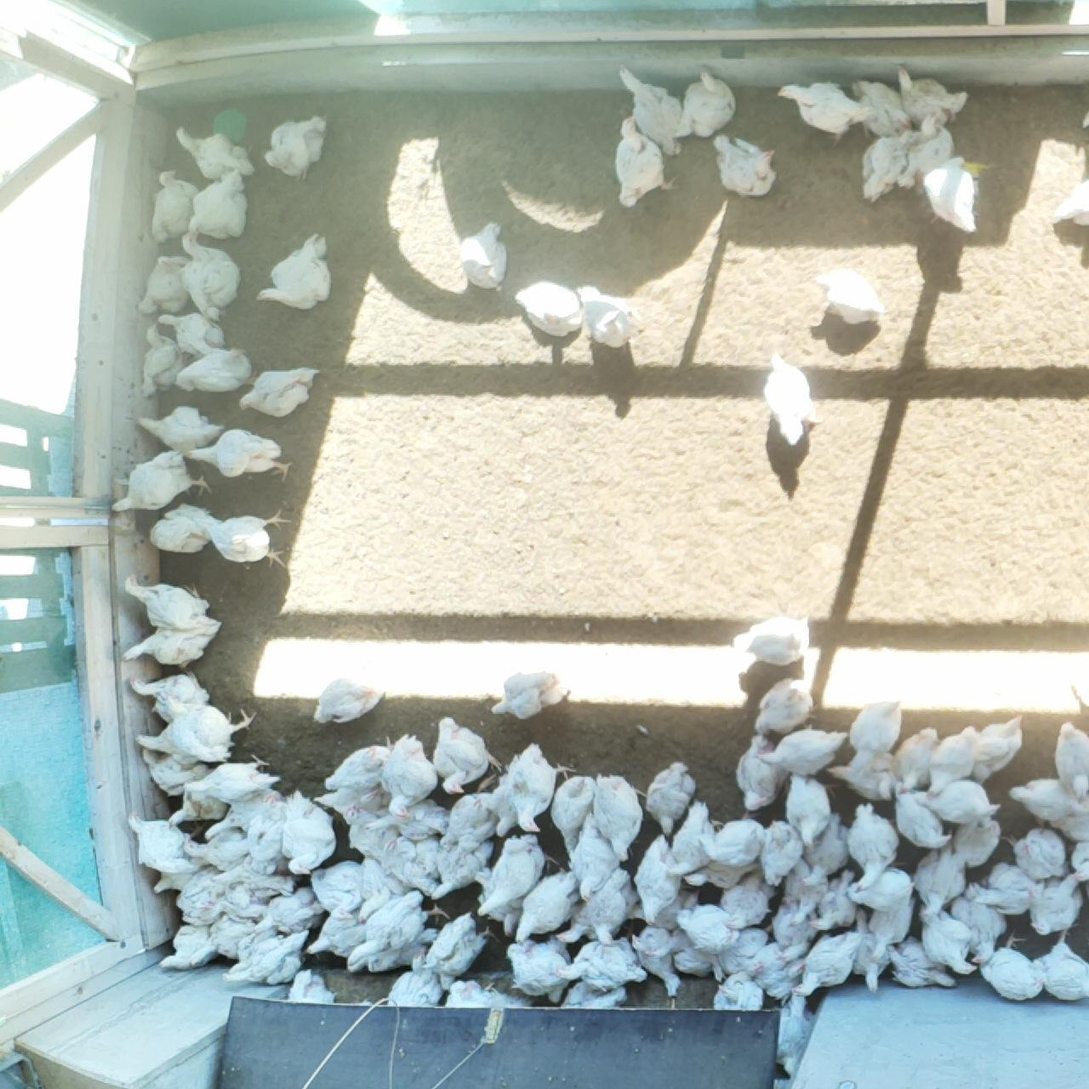chicken: (342, 889, 450, 971), (135, 705, 260, 761), (618, 60, 688, 156), (112, 444, 208, 514), (503, 741, 575, 834), (255, 232, 332, 315), (184, 423, 292, 482), (778, 77, 879, 140), (611, 116, 676, 211), (443, 975, 534, 1042), (177, 227, 244, 316), (428, 715, 500, 797), (479, 835, 549, 919), (761, 351, 822, 447), (200, 506, 288, 572), (274, 789, 339, 878), (892, 60, 972, 130), (420, 909, 489, 990), (121, 811, 207, 875), (756, 727, 852, 784), (121, 614, 224, 667), (201, 784, 290, 845), (959, 712, 1028, 789), (949, 878, 1008, 968), (198, 871, 298, 924), (514, 866, 581, 945), (122, 573, 213, 631), (555, 933, 649, 989), (305, 906, 391, 967), (893, 110, 956, 193), (911, 900, 977, 979), (565, 807, 621, 899), (184, 752, 283, 804), (1009, 776, 1089, 840), (670, 67, 739, 141), (437, 775, 504, 851), (910, 838, 971, 921), (796, 929, 866, 1001), (842, 905, 898, 995), (972, 938, 1049, 1003), (1024, 927, 1089, 1004), (845, 804, 901, 893), (633, 832, 686, 926), (809, 264, 889, 326), (431, 827, 498, 901), (382, 953, 445, 1031), (842, 697, 905, 775), (708, 133, 782, 199), (186, 164, 249, 241), (223, 931, 312, 985), (306, 861, 393, 916), (591, 774, 646, 861), (174, 859, 247, 924), (858, 122, 915, 205), (576, 281, 647, 347), (826, 748, 909, 804), (172, 124, 256, 179), (556, 771, 605, 865), (125, 669, 215, 720), (881, 932, 955, 994), (135, 748, 223, 800), (551, 871, 614, 943), (733, 730, 789, 811), (280, 969, 340, 1044), (920, 158, 979, 234), (859, 887, 918, 963), (378, 734, 431, 818), (925, 724, 984, 799), (640, 759, 693, 840), (164, 776, 248, 827), (890, 784, 953, 852), (730, 615, 814, 666), (750, 676, 819, 738), (315, 777, 406, 824), (247, 792, 303, 868), (171, 345, 256, 395), (187, 911, 259, 970), (966, 858, 1038, 917), (626, 924, 679, 1004), (237, 364, 320, 415), (911, 777, 999, 825), (1026, 869, 1089, 936), (146, 169, 202, 244), (507, 935, 567, 1005), (482, 765, 539, 838), (702, 968, 764, 1035), (514, 278, 582, 339), (491, 669, 573, 719), (746, 937, 805, 1006), (253, 886, 331, 938), (136, 405, 222, 452), (681, 843, 765, 891), (779, 852, 831, 929), (325, 744, 399, 798), (174, 829, 259, 876), (155, 307, 233, 358), (781, 774, 834, 849), (768, 883, 817, 964), (312, 672, 385, 726), (851, 77, 914, 139), (712, 871, 777, 931), (665, 799, 713, 880), (560, 978, 633, 1031), (339, 802, 400, 865), (136, 252, 194, 318), (383, 830, 441, 896), (897, 724, 948, 799), (455, 221, 511, 289), (363, 798, 453, 840), (711, 923, 775, 982), (585, 868, 631, 950), (159, 912, 222, 971), (1001, 827, 1072, 879), (807, 865, 859, 935), (667, 902, 741, 951), (799, 813, 849, 885), (151, 502, 220, 554), (139, 323, 188, 395), (699, 817, 766, 867), (145, 861, 226, 902), (758, 819, 805, 889), (845, 867, 916, 913), (1053, 720, 1089, 807), (951, 813, 1003, 871), (264, 112, 328, 158), (260, 133, 322, 180), (1047, 173, 1089, 234), (670, 936, 722, 979), (1063, 836, 1089, 888)
